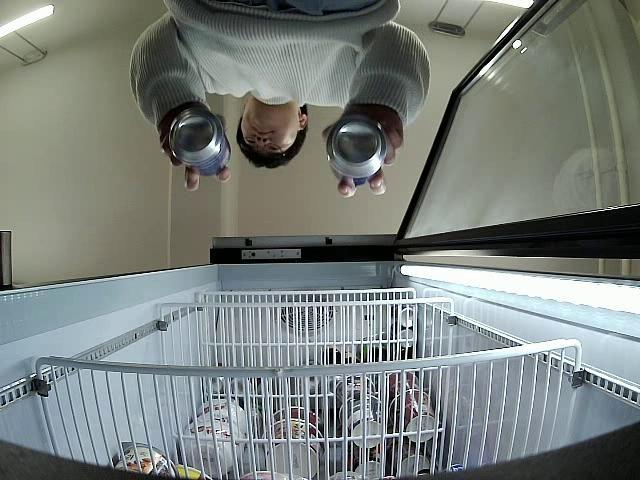14_welchsGrape: (324, 115, 387, 186), (168, 110, 232, 177)
